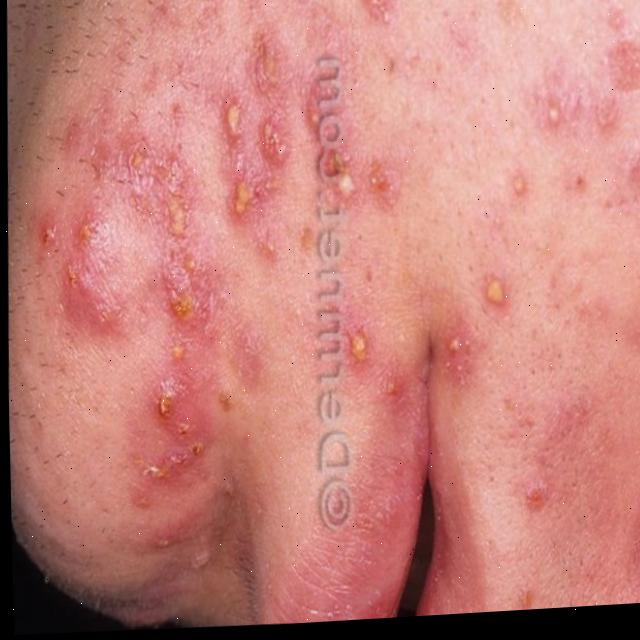Acne: (31, 0, 640, 638)
